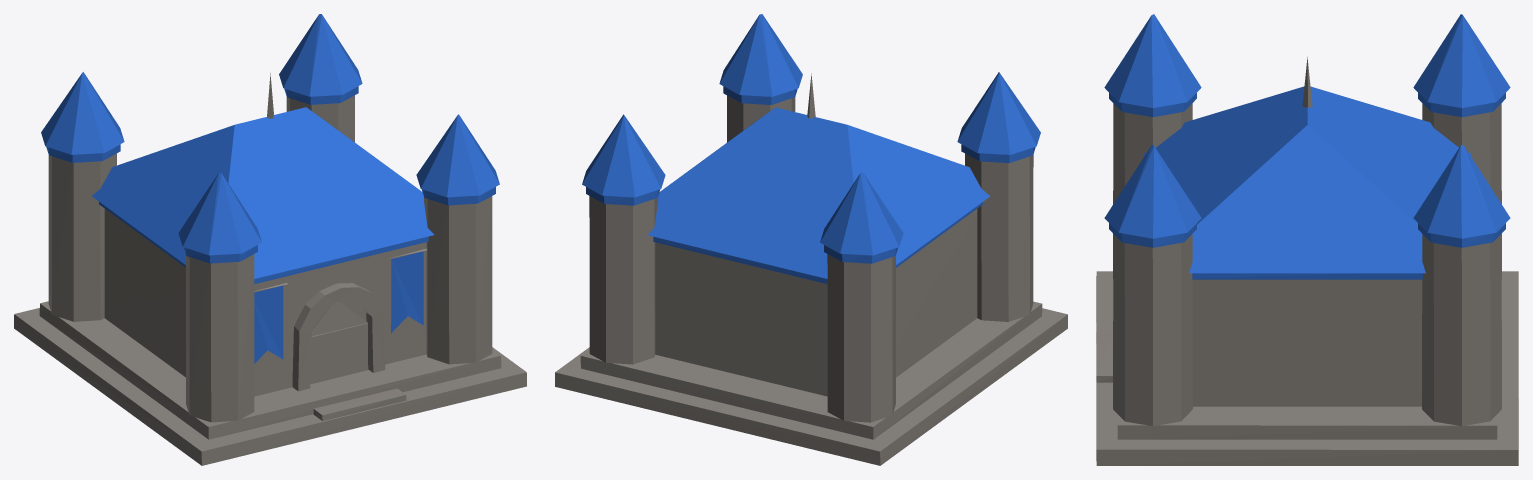
The model's file is command_center_lod1.obj.
3 views of the same model, side by side, from view 1: azimuth 30°, elevation 25°; view 2: azimuth 150°, elevation 25°; view 3: azimuth 270°, elevation 25° (orthographic). The views are drawn at different scales.
Parts seen in each view (by area): view 1: command_center_lod1; view 2: command_center_lod1; view 3: command_center_lod1.
Boxes of the visible parts, <box> form: command_center_lod1: <box>14,14,526,465</box>; command_center_lod1: <box>555,14,1067,465</box>; command_center_lod1: <box>1096,14,1518,465</box>.
Bounding box in the file's own units: 9.98 × 8.35 × 9.98.
